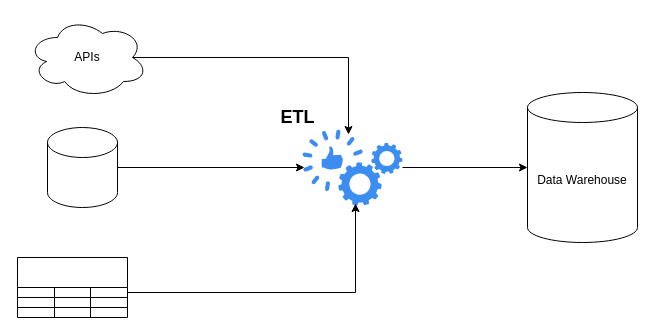
Some shapes in this 655 by 335 pixel diagram are drawn without their labels. The centre of each missing label's shape, as x and y in pixels:
Datastores: (82,167)
Spreadsheets: (72,287)
